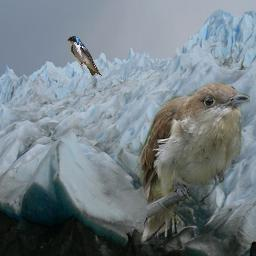Cuckoo: (136, 81, 250, 244)
Swallow: (66, 36, 102, 76)
